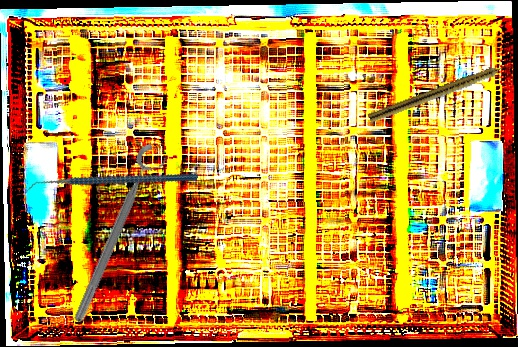Chopper: (23, 127, 199, 241)
Fixation Ring: (68, 140, 172, 330)
Handpiece: (367, 59, 516, 126)
